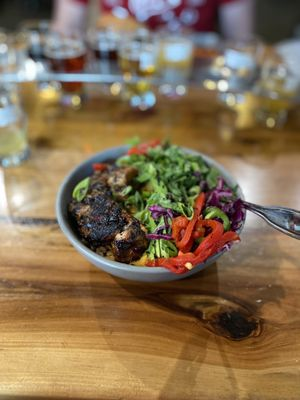sushi: (54, 138, 249, 283)
